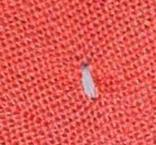hole: (77, 62, 102, 101)
